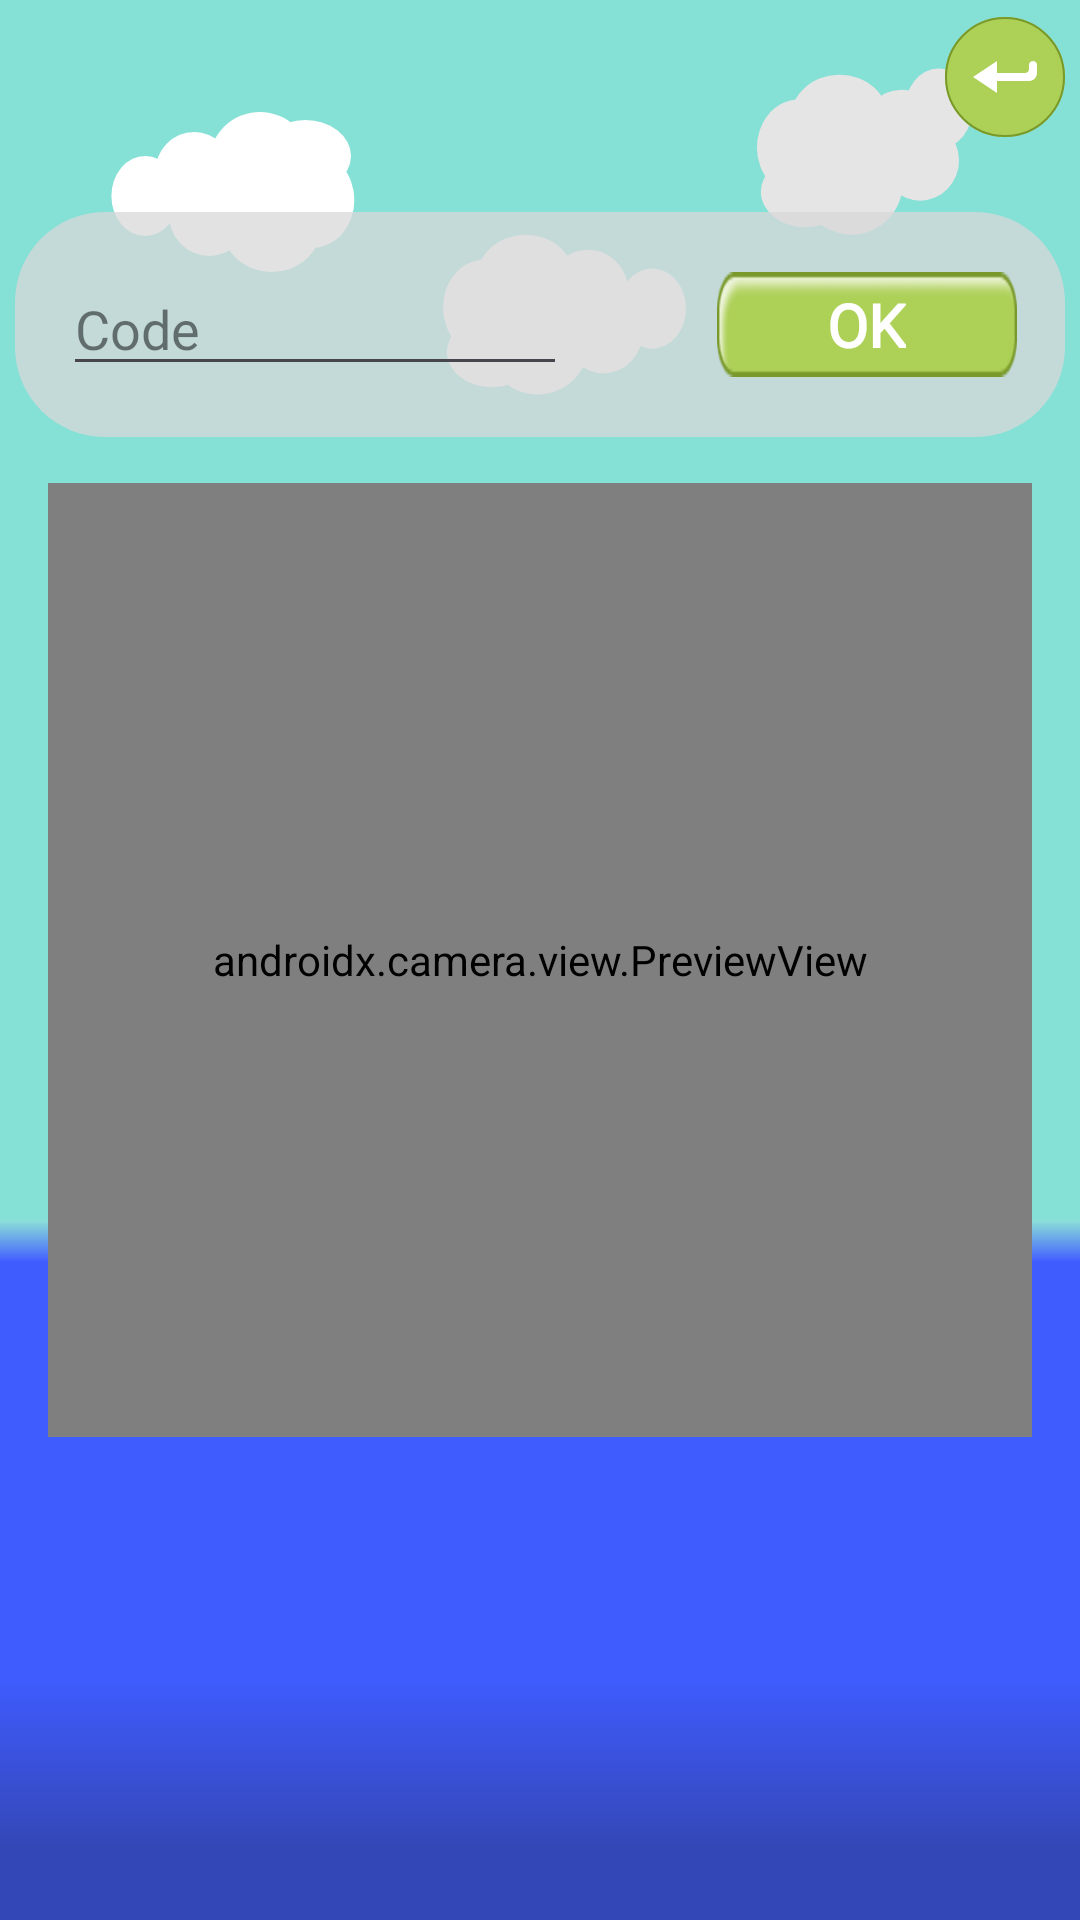

Locate icon controls on the screen. Image size 1080 × 1920, boxes as (x1, y1, x2, y2).
btnback: (930, 17, 1065, 152)
